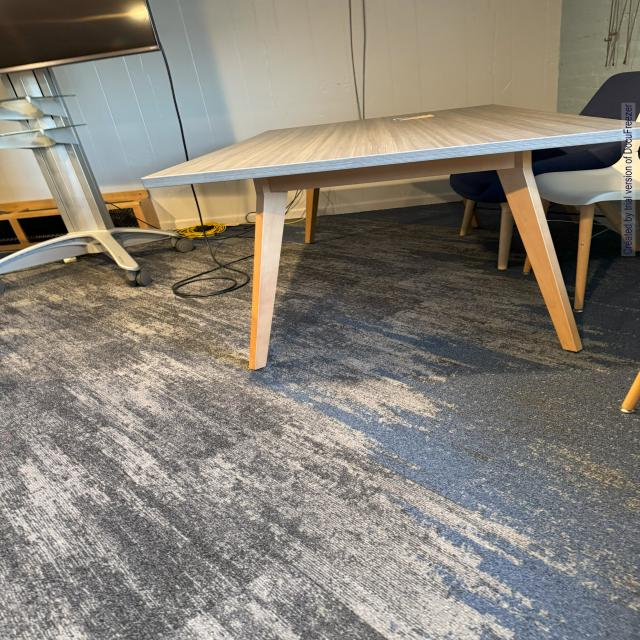Table: (120, 96, 640, 424)
